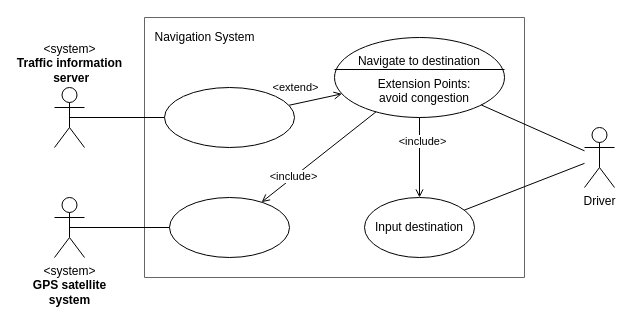
This 633x325 diagram has some shape labels left out. The shapes that lost their labels are listed below. From the top down, each one's box as (x1, y1, x2, y2) in pixels, then its label:
(164, 86, 294, 148): Download traffic information
(168, 196, 290, 258): Retrieve current position
